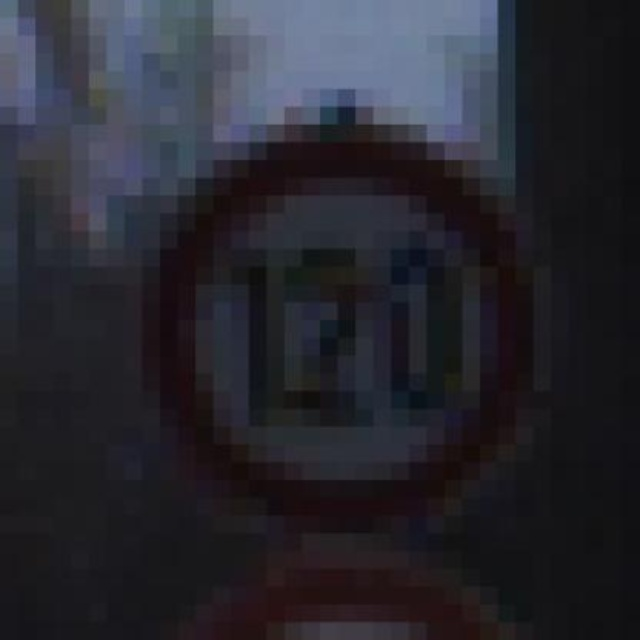Tốc độ tối đa cho phép 120km/h: (153, 137, 537, 529)
